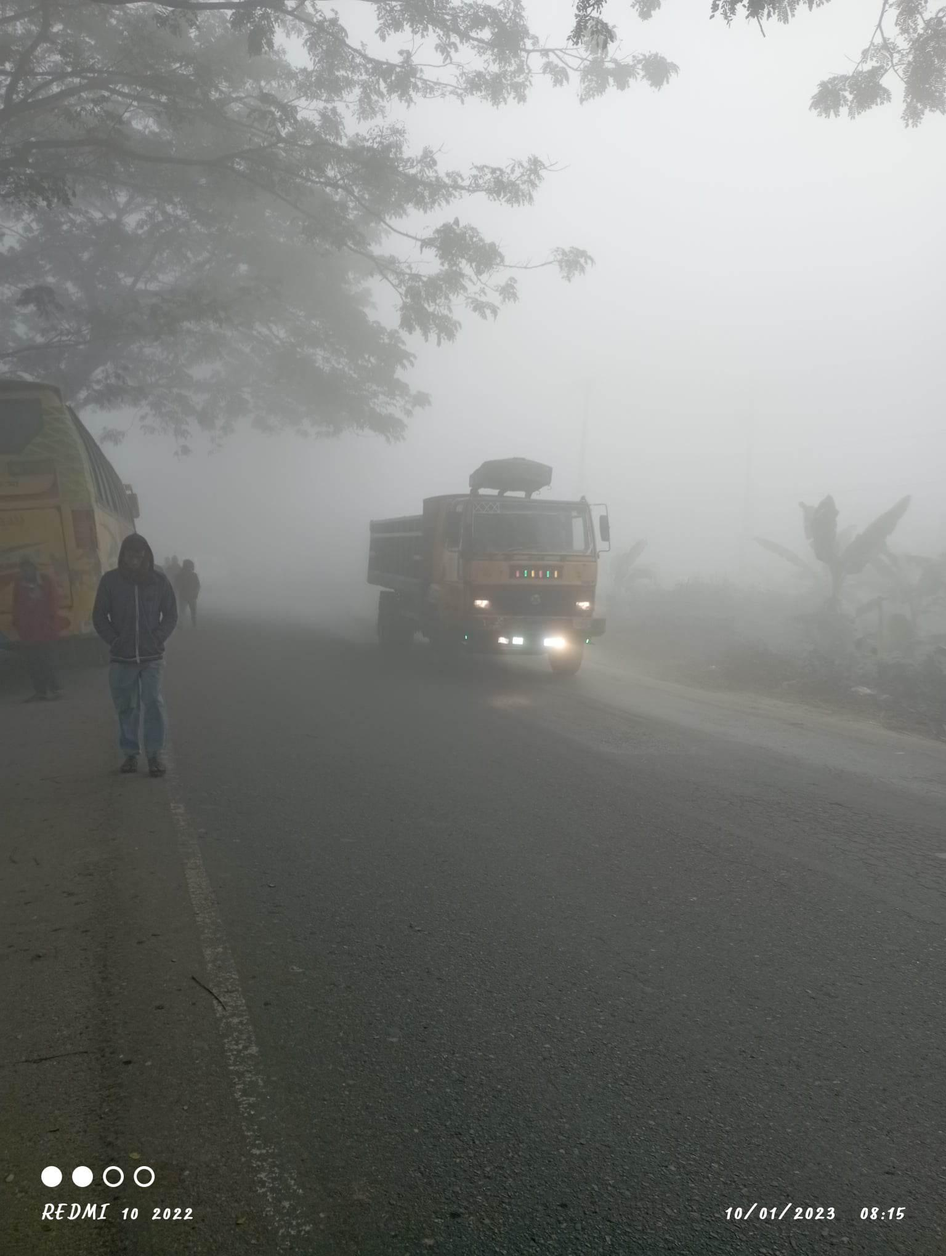Bus: (3, 359, 200, 691)
Truck: (305, 448, 655, 717)
